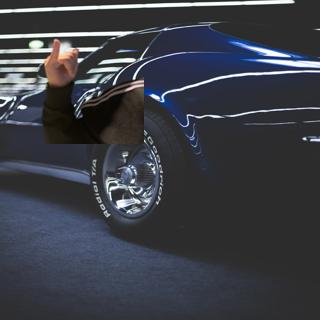HAVE: (40, 36, 84, 89)
